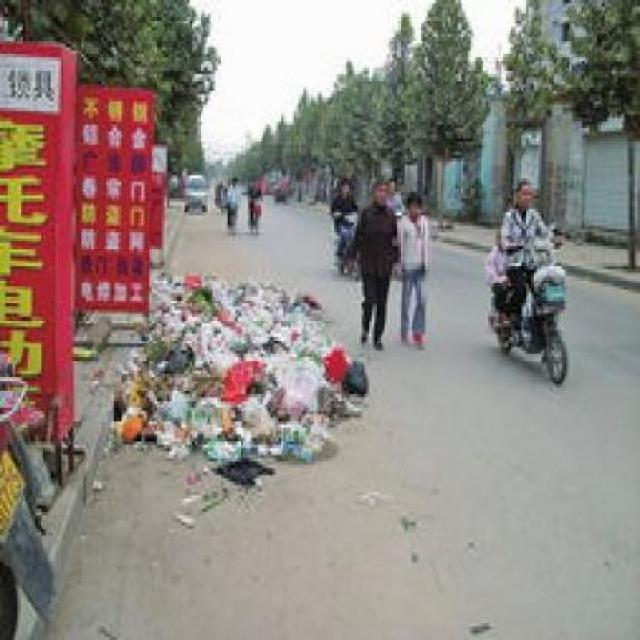garbage: (134, 266, 352, 478)
